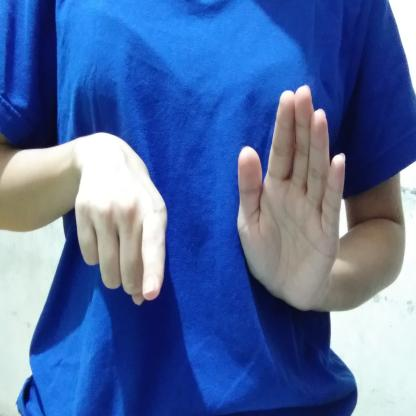stop: (64, 83, 350, 326)
